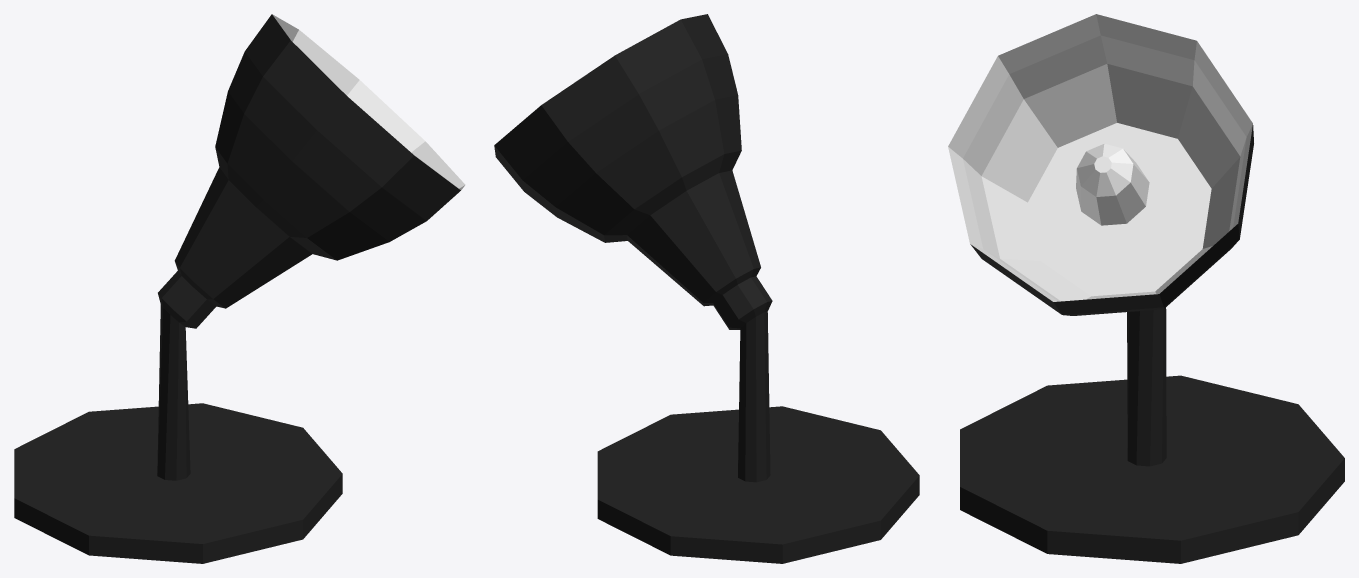
File: lamp3.gltf
The picture shows the model from 3 angles, left to right: view 1: azimuth 30°, elevation 25°; view 2: azimuth 150°, elevation 25°; view 3: azimuth 270°, elevation 25°; orthographic projection. The views are drawn at different scales.
Parts seen in each view (by area): view 1: Cube; view 2: Cube; view 3: Cube.
Part boxes in pixels (left/top/right/bottom): Cube: left=14, top=14, right=465, bottom=563; Cube: left=494, top=14, right=919, bottom=563; Cube: left=948, top=14, right=1344, bottom=563.
Bounding box in the file's own units: 0.2248 × 0.2382 × 0.1641.
Materials: 1 (1 with a texture image).
